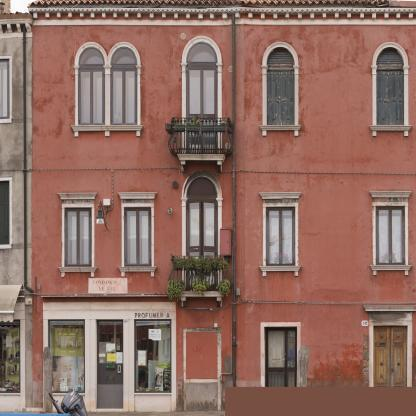Balcony: (168, 117, 233, 154), (168, 255, 233, 291)
Building Outline: (27, 0, 415, 411)
Cornice: (363, 305, 416, 311), (259, 192, 302, 199), (58, 193, 97, 200), (118, 192, 157, 199), (369, 191, 412, 197)
Door: (186, 201, 218, 291), (186, 64, 218, 154), (96, 319, 123, 412), (373, 326, 407, 387), (264, 327, 297, 387)
Facade: (32, 0, 415, 411)
Floor: (32, 159, 416, 296)
Floor Slab: (32, 154, 416, 159), (32, 291, 416, 296)
Ground Floor: (33, 297, 416, 412)
Molding: (28, 7, 416, 20)
Roof: (27, 0, 389, 8)
Shop: (136, 322, 170, 392), (50, 321, 84, 391), (134, 313, 170, 318)
Sill: (71, 125, 143, 137), (369, 125, 412, 137), (259, 125, 302, 137), (369, 265, 412, 276), (259, 266, 302, 277), (118, 267, 157, 277), (58, 267, 97, 277)
Top Floor: (33, 20, 416, 159)
Window: (266, 47, 295, 125), (376, 47, 404, 125), (78, 46, 105, 125), (110, 46, 137, 125), (375, 207, 405, 266), (266, 207, 295, 266), (124, 208, 151, 267), (65, 208, 92, 267), (186, 176, 217, 197), (186, 42, 217, 63)
